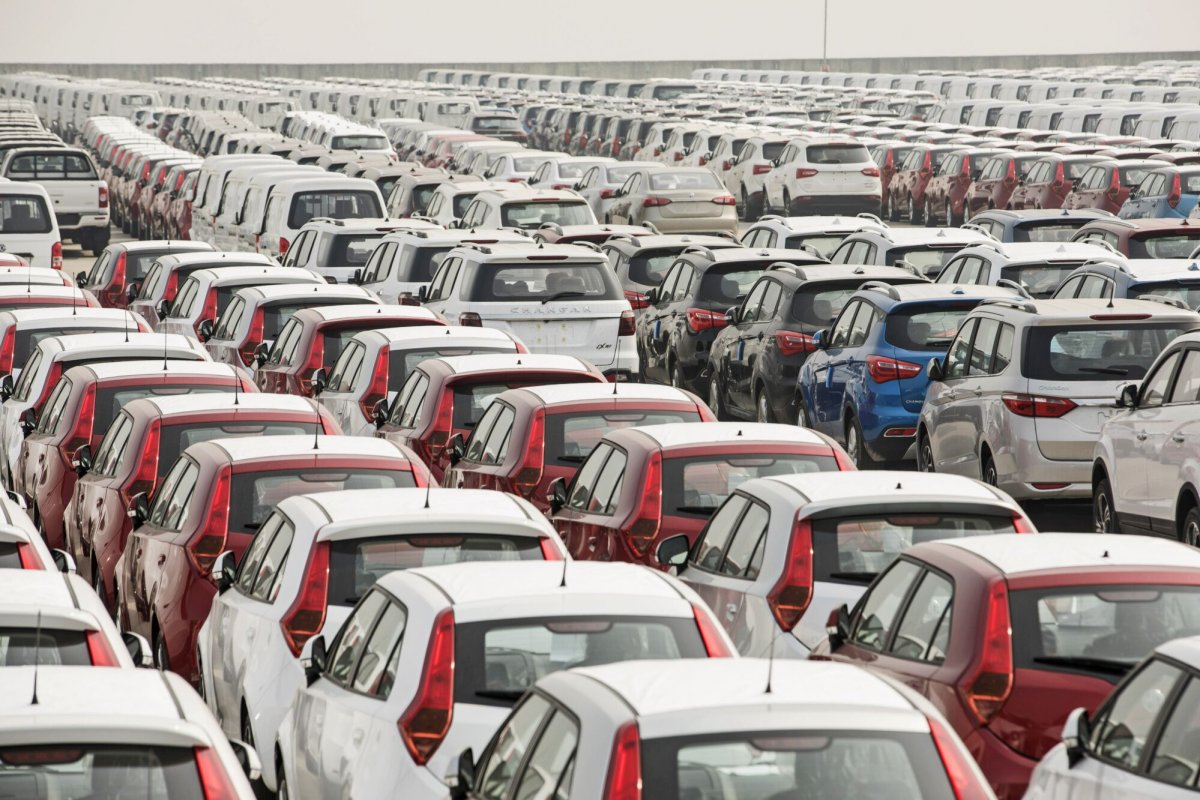Car: (276, 560, 736, 800), (198, 488, 566, 787), (812, 533, 1200, 800), (112, 434, 436, 680), (442, 658, 996, 800), (655, 470, 1034, 658), (915, 293, 1200, 502), (64, 393, 343, 606), (17, 361, 258, 548), (796, 278, 1032, 468), (545, 421, 854, 566), (706, 260, 932, 423), (0, 663, 261, 800), (441, 383, 716, 508), (0, 332, 215, 489), (411, 240, 640, 382), (637, 242, 832, 403), (1023, 636, 1200, 800), (370, 353, 605, 475), (311, 326, 532, 436), (1092, 328, 1200, 548), (253, 304, 452, 398), (198, 283, 383, 376), (0, 568, 152, 667), (348, 228, 535, 306), (154, 266, 329, 345), (599, 229, 748, 318), (0, 306, 157, 387), (0, 146, 112, 257), (125, 251, 282, 328), (933, 238, 1128, 298), (274, 215, 446, 283), (259, 177, 390, 258), (761, 136, 882, 220), (76, 240, 223, 309), (214, 164, 327, 252), (829, 225, 1003, 282), (231, 171, 346, 253), (605, 167, 739, 235), (197, 158, 298, 244), (187, 152, 283, 240), (1050, 256, 1200, 310), (723, 133, 812, 222), (923, 148, 1018, 227), (960, 151, 1062, 224), (887, 144, 977, 224), (446, 188, 599, 235), (739, 212, 891, 258), (122, 154, 204, 238), (1060, 159, 1176, 215), (112, 150, 194, 228), (571, 161, 670, 224), (1006, 154, 1117, 209), (0, 495, 76, 573), (964, 207, 1122, 243), (1066, 217, 1200, 259), (109, 148, 184, 223), (137, 158, 205, 240), (0, 181, 63, 269), (410, 181, 533, 225), (870, 142, 934, 220), (386, 173, 488, 218), (1117, 165, 1200, 219), (703, 131, 786, 182), (148, 163, 202, 240), (677, 126, 760, 167), (531, 220, 663, 245), (617, 117, 692, 161), (101, 144, 174, 189), (364, 166, 449, 204), (656, 124, 731, 167), (596, 115, 661, 161), (0, 283, 103, 312), (633, 121, 707, 161), (526, 157, 618, 189), (97, 138, 166, 180), (567, 111, 628, 156), (454, 112, 528, 149), (481, 152, 571, 182), (45, 84, 91, 142), (324, 127, 399, 162), (61, 85, 105, 144), (426, 136, 501, 170), (584, 114, 644, 156), (0, 140, 70, 175), (551, 110, 609, 152), (395, 126, 462, 162), (176, 110, 239, 148), (165, 171, 200, 239), (94, 136, 160, 172), (415, 134, 487, 167), (405, 129, 476, 162), (74, 86, 124, 132), (1092, 107, 1170, 136), (448, 145, 525, 174), (181, 113, 244, 148), (351, 91, 412, 127), (461, 148, 543, 174), (196, 125, 260, 158), (183, 117, 248, 149), (244, 97, 302, 132), (541, 108, 587, 152), (189, 122, 254, 153), (1130, 109, 1194, 140), (186, 120, 250, 150), (90, 133, 154, 163), (86, 130, 146, 162), (371, 93, 427, 127), (207, 127, 272, 156), (445, 140, 522, 164), (530, 106, 573, 148), (1054, 107, 1126, 132), (0, 266, 81, 288), (1023, 105, 1093, 130), (992, 103, 1062, 128), (424, 96, 480, 127), (74, 115, 128, 146), (108, 89, 163, 119), (314, 152, 396, 172), (966, 100, 1029, 126), (937, 98, 999, 124), (217, 130, 283, 154), (76, 120, 132, 148), (339, 160, 423, 178), (37, 82, 71, 126), (81, 126, 138, 152), (392, 124, 444, 152), (274, 110, 327, 137), (636, 79, 702, 100), (312, 88, 363, 114), (138, 108, 186, 135), (286, 113, 340, 137), (28, 81, 67, 114), (1023, 81, 1078, 104), (86, 88, 128, 118), (311, 123, 371, 144), (305, 120, 361, 142), (0, 74, 51, 98), (297, 117, 350, 140), (995, 79, 1049, 101), (331, 91, 370, 121), (256, 142, 329, 158), (287, 149, 358, 165), (897, 97, 944, 121), (234, 136, 300, 153), (1165, 110, 1200, 142), (291, 116, 344, 137), (945, 76, 993, 99), (0, 112, 52, 133), (154, 112, 190, 142), (921, 76, 969, 98), (969, 78, 1018, 99), (519, 104, 550, 137), (245, 138, 313, 153), (17, 79, 68, 99), (1139, 86, 1198, 103), (921, 99, 964, 122), (165, 112, 193, 146), (395, 97, 434, 121), (1108, 85, 1163, 102), (1083, 135, 1149, 149), (1044, 132, 1108, 146), (1092, 148, 1166, 160), (223, 95, 265, 116), (565, 77, 614, 95), (1125, 139, 1192, 152), (0, 479, 29, 509), (756, 104, 810, 120), (523, 74, 573, 91), (1054, 83, 1107, 99), (174, 90, 212, 112), (1013, 129, 1072, 143), (1080, 84, 1135, 99), (130, 106, 170, 126), (589, 79, 634, 96), (613, 80, 656, 97), (985, 127, 1037, 141), (873, 73, 918, 89), (188, 91, 224, 111), (915, 133, 975, 145), (826, 107, 873, 122), (162, 89, 199, 108), (385, 123, 426, 140), (298, 87, 328, 110), (1147, 152, 1200, 165), (5, 78, 39, 98), (897, 74, 942, 89), (891, 130, 947, 142), (803, 92, 840, 110), (485, 72, 526, 88), (956, 125, 1008, 137), (1050, 146, 1119, 155), (852, 73, 893, 88), (947, 137, 1007, 147), (864, 128, 914, 140), (848, 95, 894, 108), (1014, 143, 1079, 152), (373, 117, 426, 128), (829, 72, 870, 86), (871, 99, 911, 113), (546, 77, 581, 93), (1129, 75, 1172, 88), (278, 85, 317, 99), (205, 93, 237, 110), (976, 140, 1036, 149), (807, 71, 845, 85), (699, 112, 747, 123), (758, 117, 805, 128), (840, 127, 891, 137), (506, 74, 540, 89), (708, 100, 747, 113), (894, 89, 940, 100), (799, 123, 849, 133), (861, 140, 906, 151), (876, 119, 925, 129), (850, 117, 898, 127), (451, 70, 485, 84), (787, 70, 821, 84), (415, 68, 448, 82), (854, 109, 899, 119), (469, 72, 501, 86), (0, 135, 63, 142), (905, 122, 952, 131), (775, 121, 822, 130), (1172, 89, 1200, 104), (806, 107, 834, 122), (831, 115, 873, 125), (0, 252, 30, 266), (746, 69, 778, 82), (434, 69, 461, 84), (766, 70, 797, 83), (926, 125, 970, 134), (687, 99, 717, 112), (736, 116, 779, 125), (819, 125, 867, 133), (0, 103, 34, 114), (381, 122, 422, 131), (735, 104, 763, 117), (1167, 141, 1200, 152), (0, 97, 35, 107), (727, 69, 756, 81), (710, 68, 738, 80), (692, 68, 720, 80), (1170, 77, 1200, 88), (1067, 75, 1100, 84), (1099, 75, 1132, 84), (509, 102, 526, 119), (679, 111, 715, 119), (1187, 197, 1200, 219), (0, 131, 57, 136), (672, 99, 692, 113), (826, 99, 852, 109), (0, 122, 40, 128), (1040, 73, 1069, 81), (979, 68, 1010, 75), (1010, 72, 1041, 79), (0, 126, 42, 131), (810, 133, 852, 138), (658, 111, 682, 119), (0, 118, 38, 123), (980, 72, 1010, 78), (486, 101, 511, 108), (784, 130, 819, 135), (1188, 245, 1200, 259), (914, 69, 941, 75), (480, 108, 512, 113), (736, 125, 775, 129), (761, 128, 799, 132), (939, 70, 964, 76), (963, 71, 980, 78), (728, 123, 751, 128), (1008, 69, 1029, 74), (854, 136, 879, 140), (691, 119, 711, 123), (707, 122, 733, 125), (0, 175, 12, 181), (1196, 305, 1200, 313)
